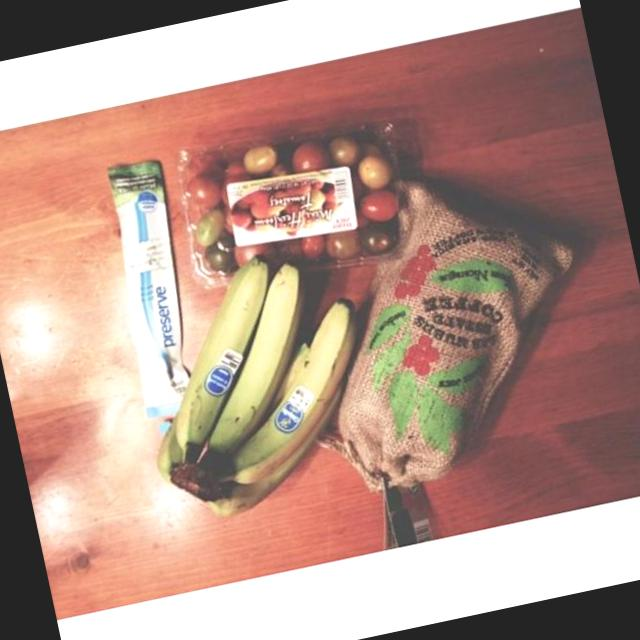Banana: (130, 230, 418, 523)
